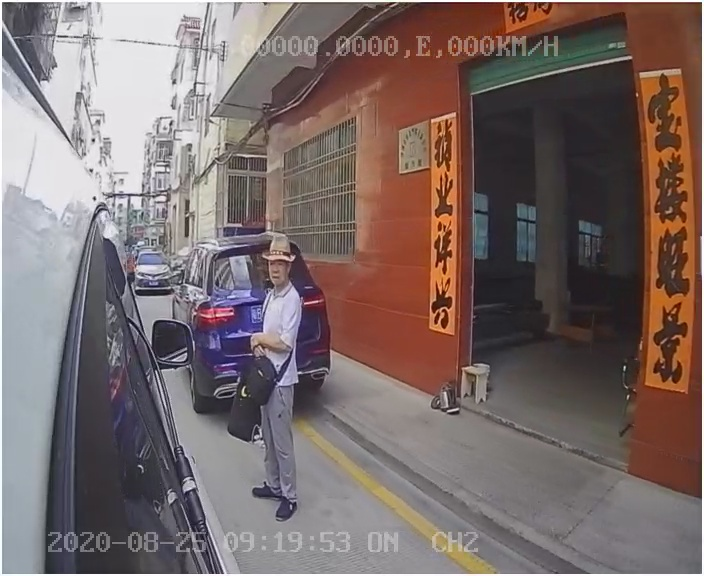person: (230, 238, 326, 521)
